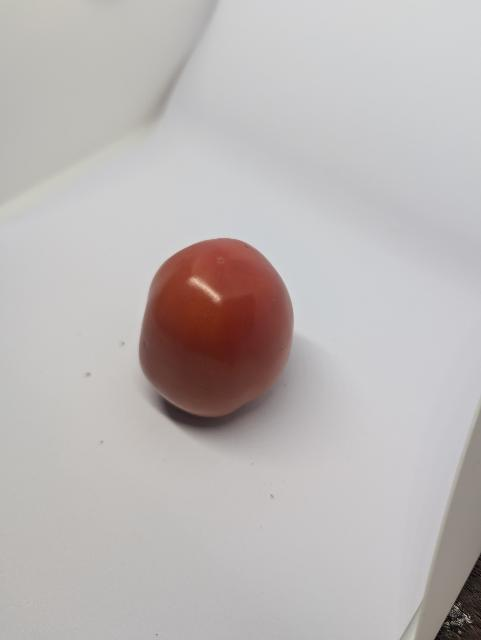red: (136, 235, 298, 420)
